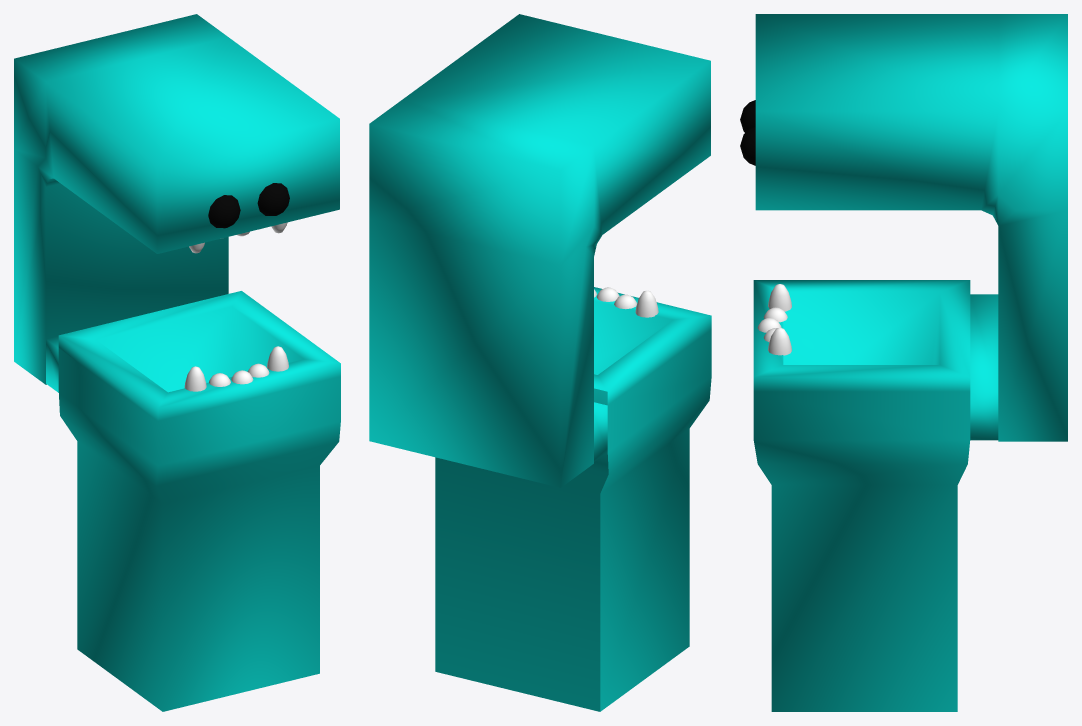
File: BlueMonster.fbx
3 views of the same model, side by side, from view 1: azimuth 30°, elevation 25°; view 2: azimuth 150°, elevation 25°; view 3: azimuth 270°, elevation 25° (orthographic). The views are drawn at different scales.
Parts seen in each view (by area): view 1: Sphere.003, Sphere.005; view 2: Sphere.005, Sphere.003; view 3: Sphere.003, Sphere.005.
Boxes of the visible parts, x1,y1,x2,y2 form: Sphere.003: (58, 291, 340, 711); Sphere.005: (14, 14, 339, 392); Sphere.005: (369, 14, 710, 711); Sphere.003: (594, 287, 711, 711); Sphere.003: (753, 280, 970, 711); Sphere.005: (740, 14, 1067, 441).
Bounding box in the file's own units: 1483 × 4315 × 2111.
